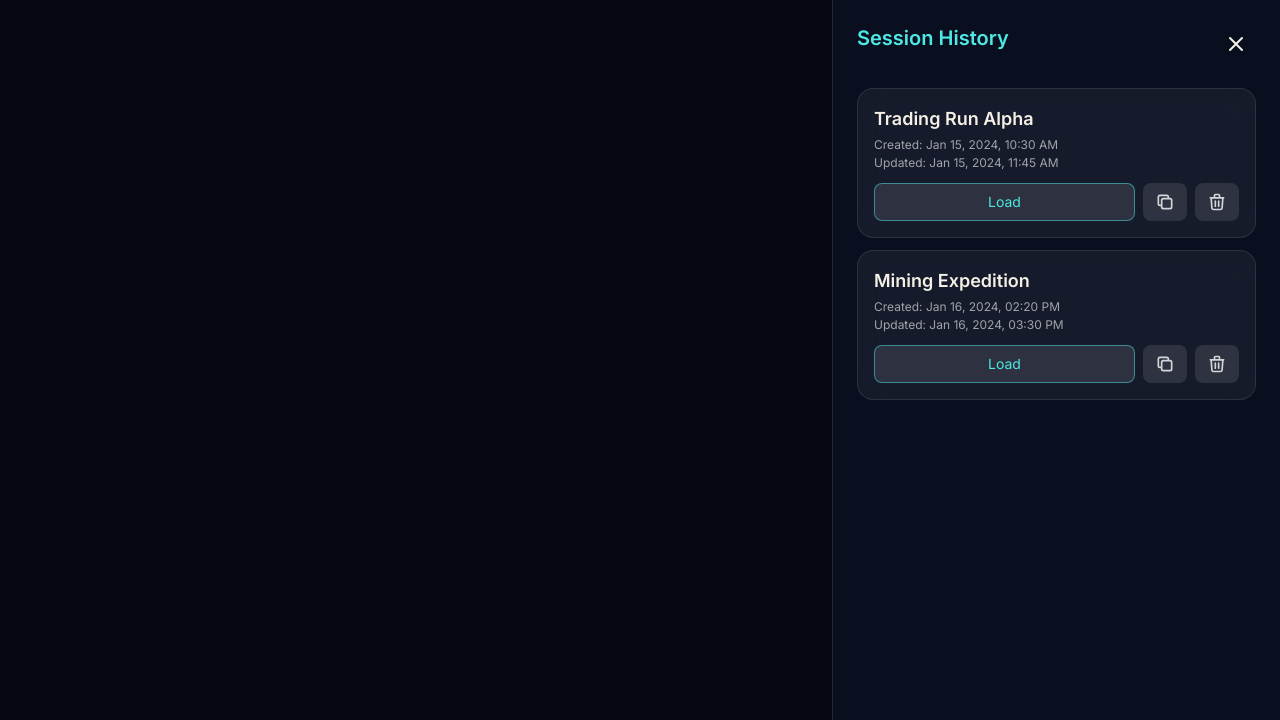
Test: SessionHistory - Delete Session › should only show confirmation for the clicked session
Step 1. Click the button named "Delete" below "Jan 15, 2024, 11:45 AM" → (1217,202), box [1195,183,1239,221]
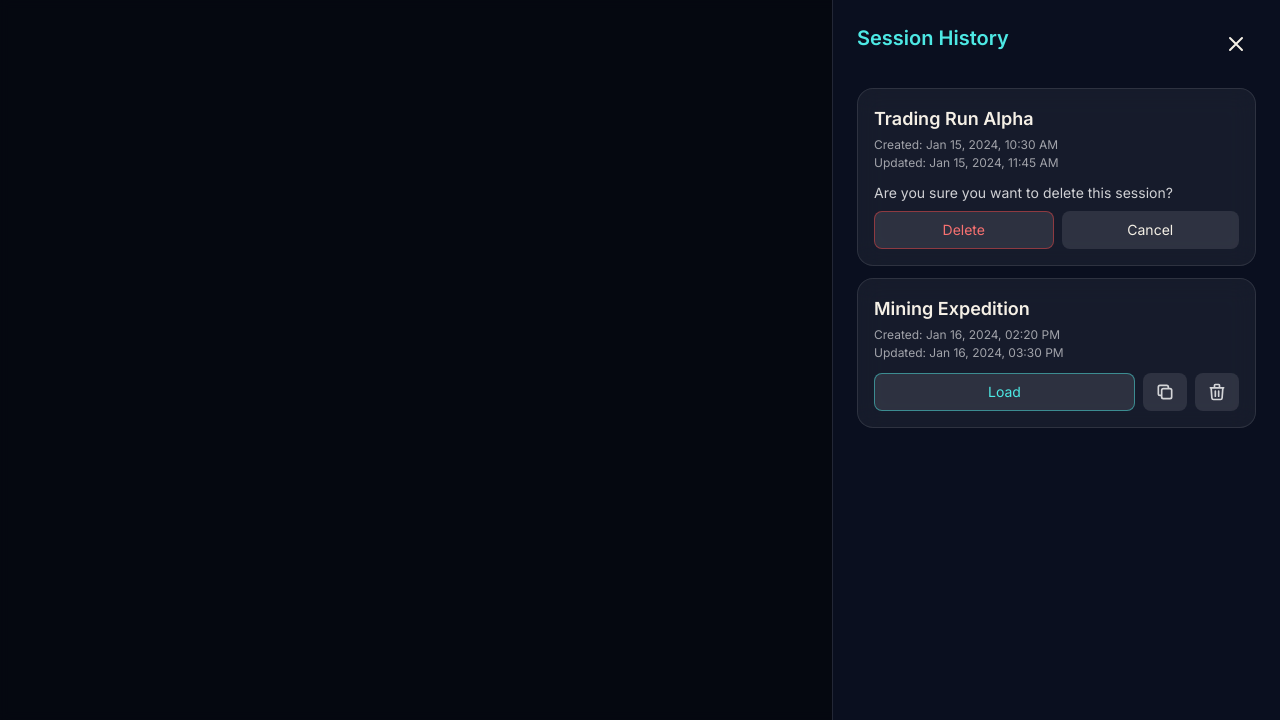
expect the heading "Trading Run Alpha" is shown: met, box [874,105,1034,133]
expect the text "Are you sure you want to delete this session?" is shown once: met, box [874,184,1173,201]
expect the number of buttons "Load" is 1: met, box [874,373,1135,411]
